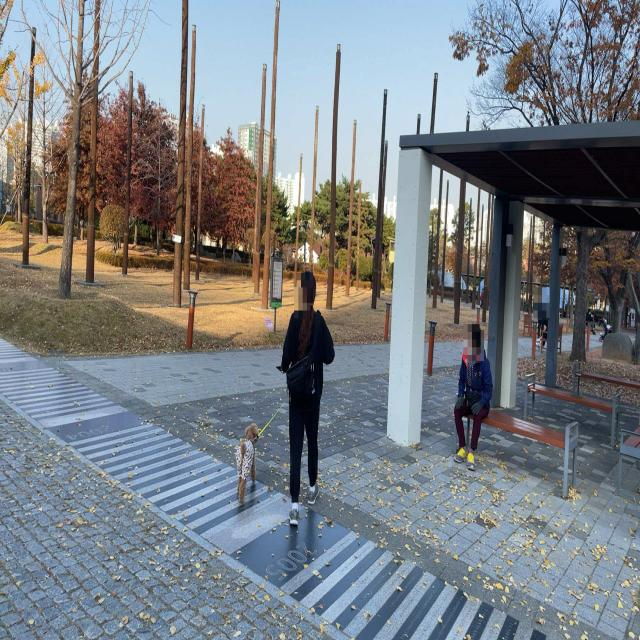Leashed_Dog: (235, 366, 306, 505)
